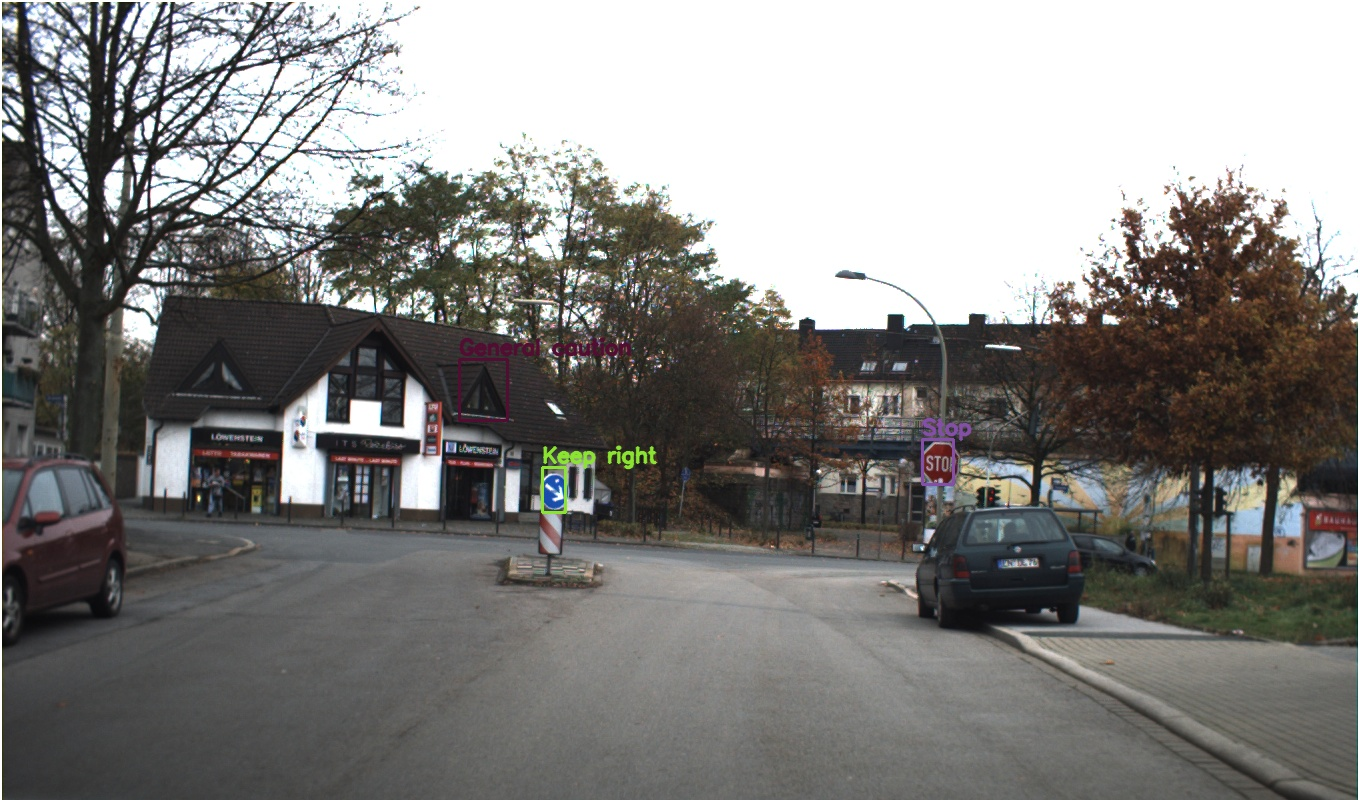General caution: (1228, 259, 1306, 329)
